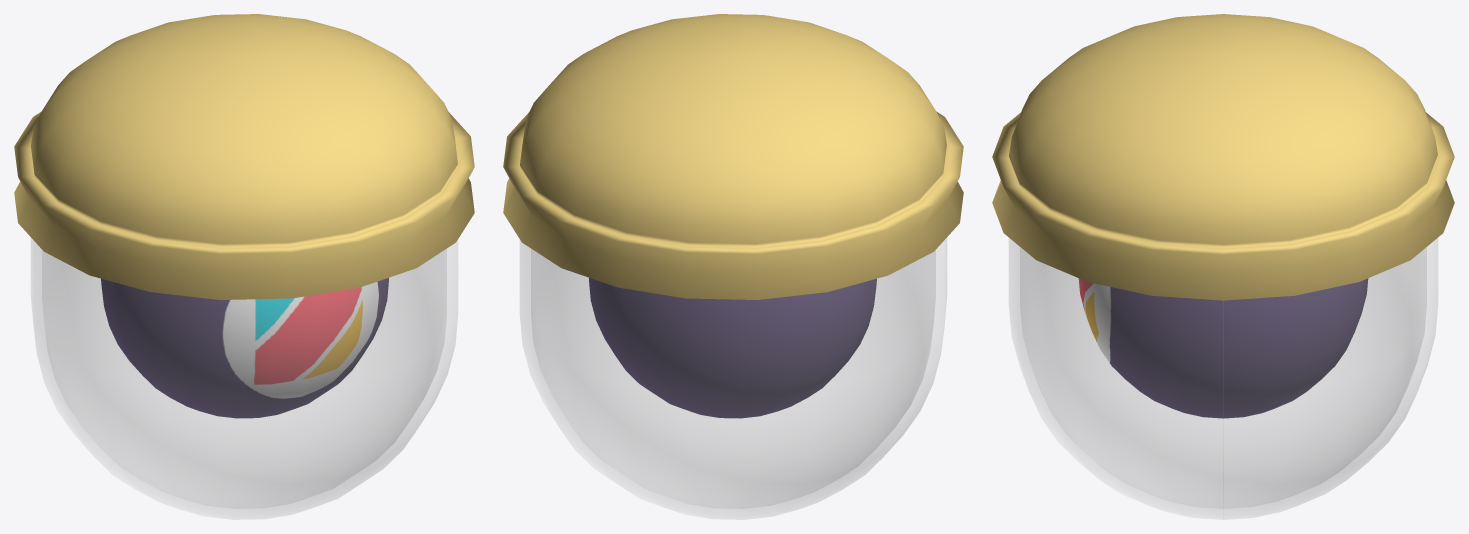
3 views of the same model, side by side, from view 1: azimuth 30°, elevation 25°; view 2: azimuth 150°, elevation 25°; view 3: azimuth 270°, elevation 25° (orthographic).
Parts seen in each view (by area): view 1: CapsuleYellowTop, CapsuleYellowBottom, Ball; view 2: CapsuleYellowTop, CapsuleYellowBottom, Ball; view 3: CapsuleYellowTop, CapsuleYellowBottom, Ball.
Part boxes in pixels (bbox=[...]): CapsuleYellowTop: bbox=[14, 14, 474, 299]; CapsuleYellowBottom: bbox=[31, 238, 457, 519]; Ball: bbox=[101, 278, 388, 418]; CapsuleYellowTop: bbox=[503, 14, 963, 299]; CapsuleYellowBottom: bbox=[520, 238, 946, 519]; Ball: bbox=[589, 278, 876, 418]; CapsuleYellowTop: bbox=[992, 14, 1454, 300]; CapsuleYellowBottom: bbox=[1009, 238, 1437, 519]; Ball: bbox=[1078, 278, 1368, 418].
Bounding box in the file's own units: 0.021 × 0.0227 × 0.021.
3 materials, 1 textured.
